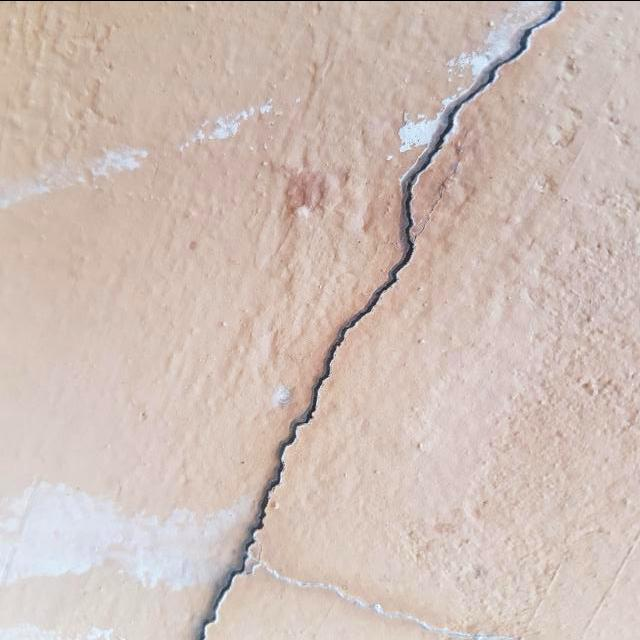SurfaceCrack: (143, 0, 637, 639)
